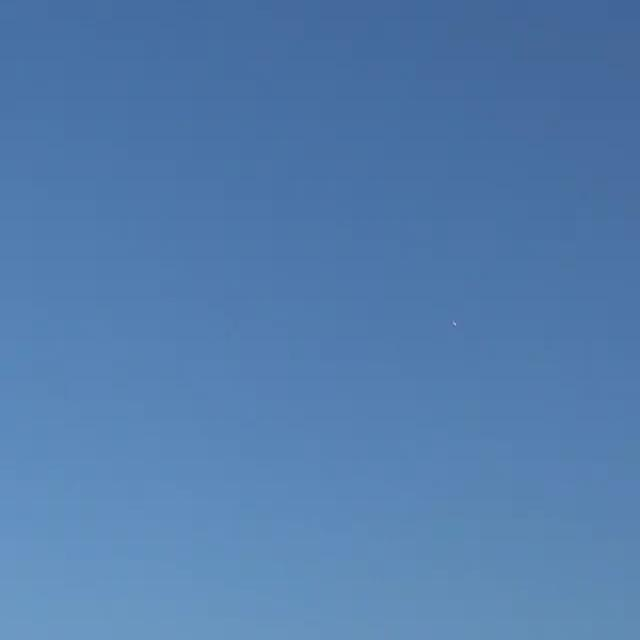AirPlane: (443, 309, 467, 338)
